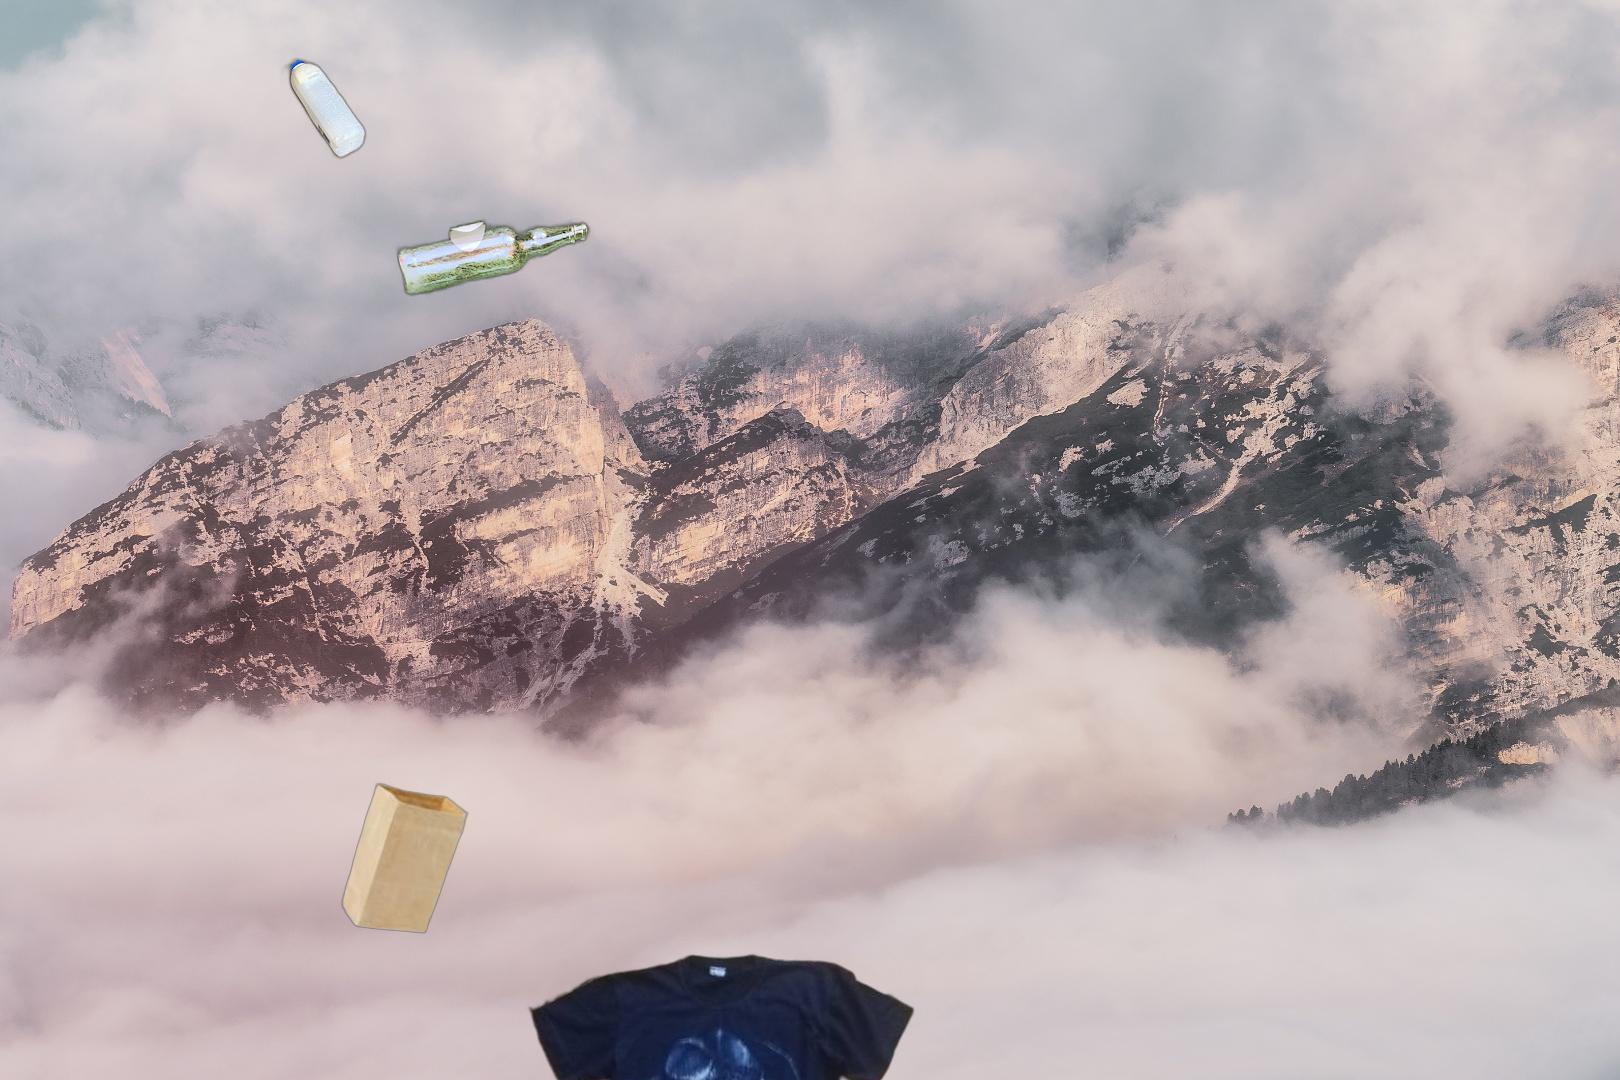clothes: (526, 952, 918, 1080)
glass: (236, 93, 749, 776)
paper-bag: (339, 781, 470, 937)
plastic-bottles: (1440, 1012, 1620, 1080), (278, 54, 370, 164)
